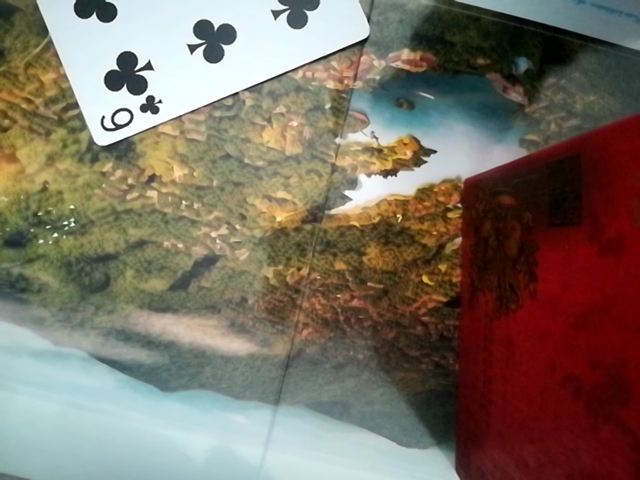mh 6: (14, 0, 370, 146)
